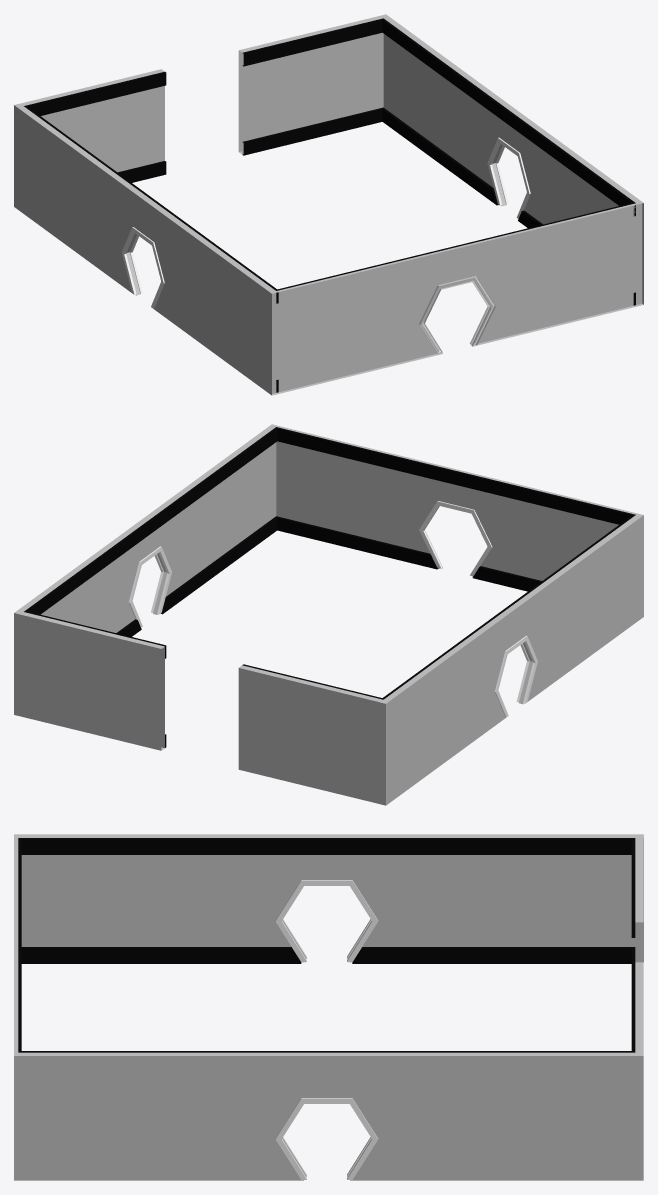
File: Parede_Hall_SegundoAndar.gltf
3 renders of one model, top to bottom at view 1: azimuth 30°, elevation 25°; view 2: azimuth 150°, elevation 25°; view 3: azimuth 270°, elevation 25°, orthographic. The views are drawn at different scales.
Parts seen in each view (by area): view 1: ParedeHall.002; view 2: ParedeHall.002; view 3: ParedeHall.002.
Boxes of the visible parts, x1,y1,x2,y2 form: ParedeHall.002: (14, 14, 643, 395); ParedeHall.002: (14, 424, 643, 805); ParedeHall.002: (14, 834, 643, 1180).
Bounding box in the file's own units: 15.38 × 4.01 × 18.36.
Materials: 1 (1 with a texture image).
